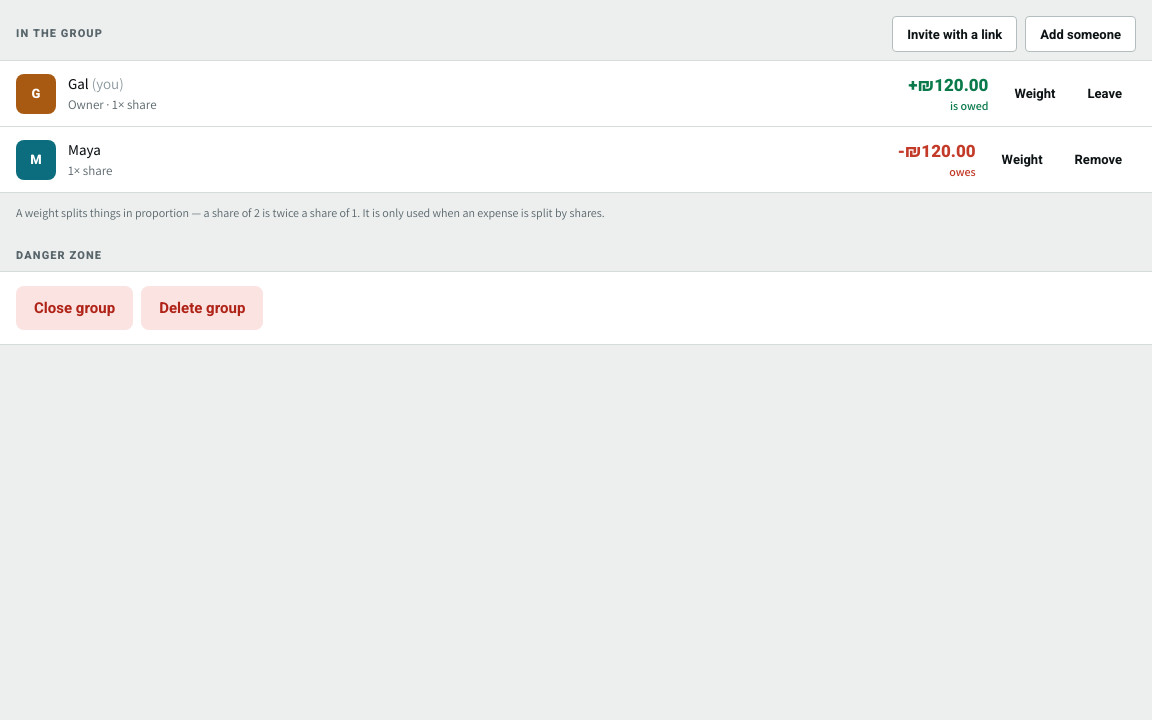
Test: the danger zone › names what is still outstanding before closing
This screenshot has width=1152, height=720.
Click the button "Close group". click: click(75, 308)
box: x1=16 y1=286 x2=133 y2=330
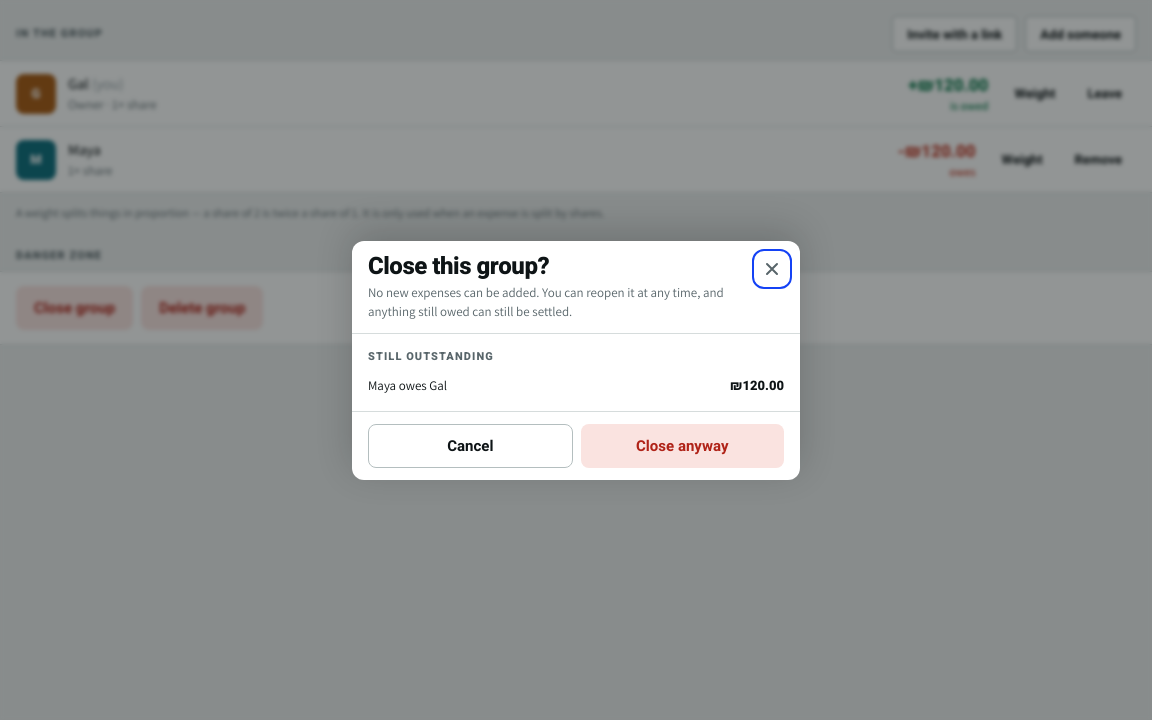
Check: the text "Maya owes Gal" is shown, box x1=368 y1=376 x2=447 y2=394
Check: the text "₪120.00" is shown, box x1=730 y1=376 x2=784 y2=394
Check: the button "Close anyway" is shown, box x1=581 y1=424 x2=784 y2=468
